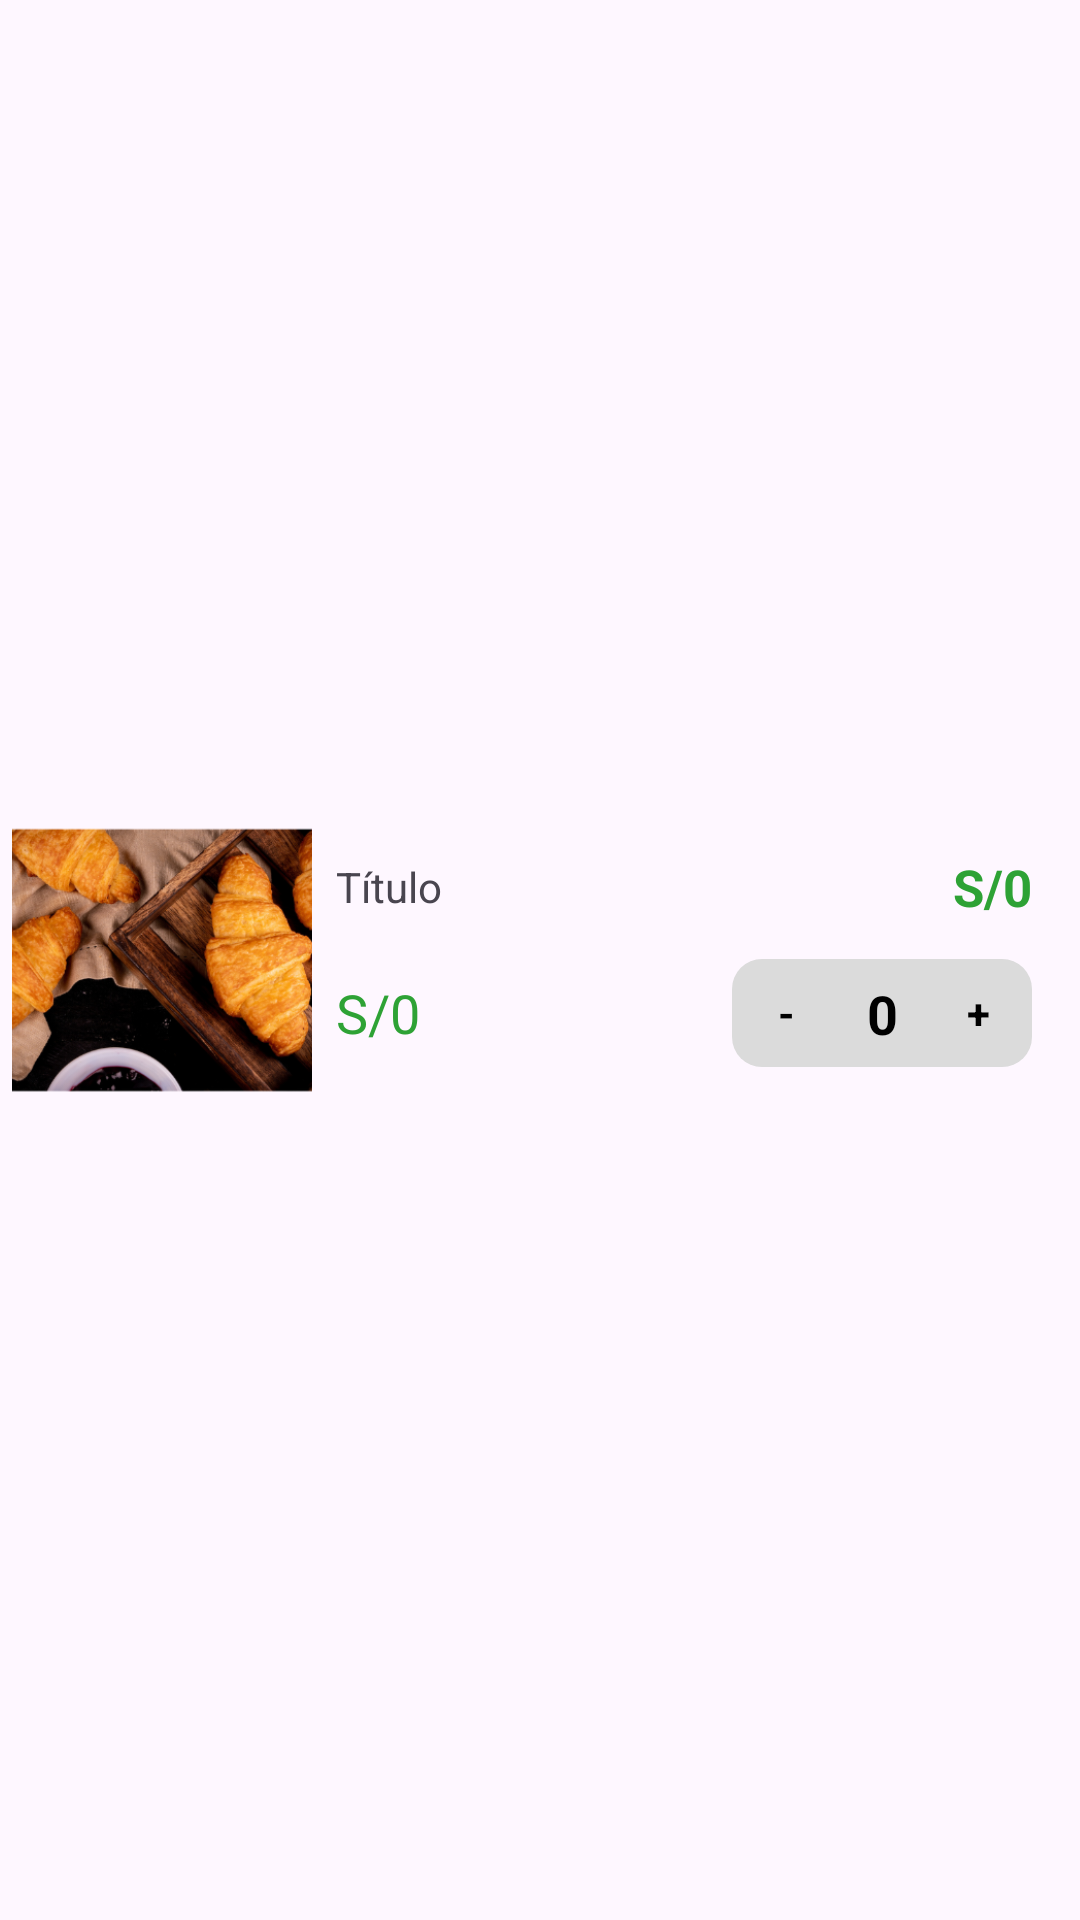

Screen size 1080px×1920px. Icon name, then its center in pixels as (x,y):
cromante: (162,960)
